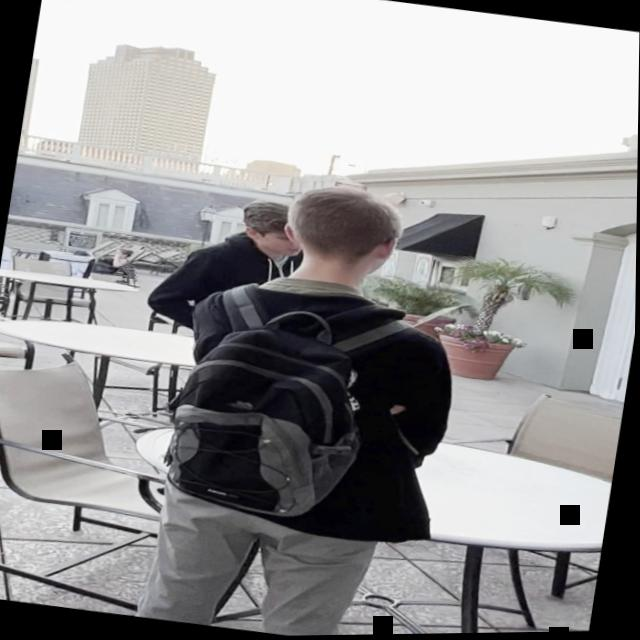NO-Mask: (261, 225, 307, 259)
